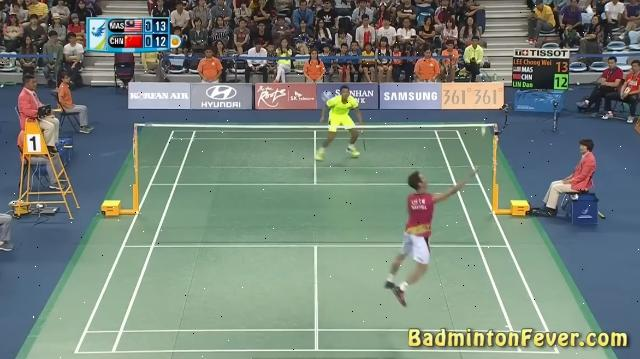Shuttlecock: (478, 124, 494, 136)
